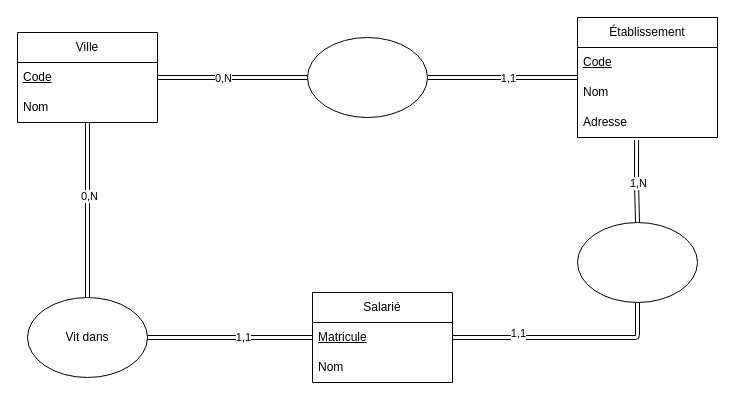
The diagram is 735 pixels wide and 400 high, and some of its shapes have lost their labels. The centre of each missing label's shape, as x and y in pixels:
Se trouve: (x=367, y=77)
Travaille dans: (x=637, y=262)
